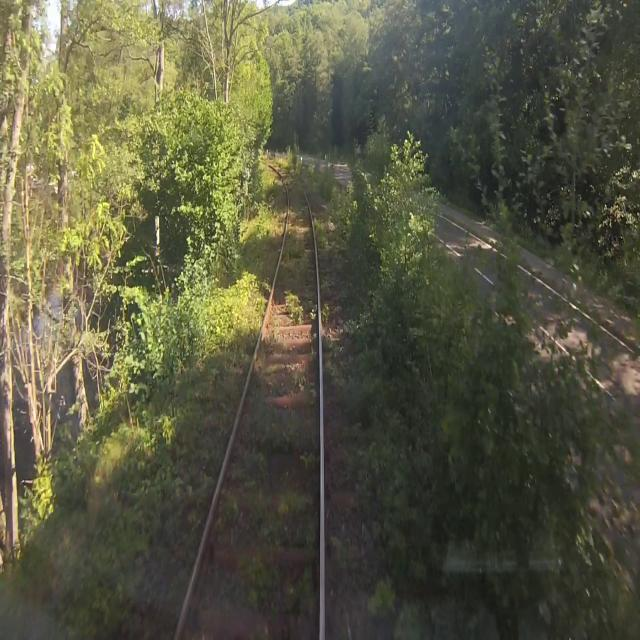Plant: (113, 162, 282, 639), (270, 153, 394, 623), (217, 452, 316, 562), (220, 548, 315, 625), (241, 368, 314, 453), (231, 446, 271, 494), (278, 233, 304, 283), (283, 287, 305, 322), (291, 366, 307, 390), (308, 306, 318, 320)
